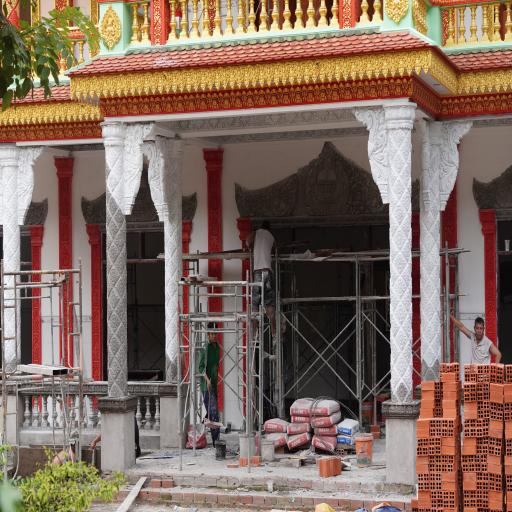hoa: (112, 183, 124, 203), (108, 334, 120, 354), (105, 148, 118, 166), (113, 158, 124, 179), (115, 300, 127, 319), (8, 310, 18, 332), (8, 213, 20, 231), (108, 241, 118, 262), (116, 323, 126, 344), (116, 254, 126, 274), (108, 266, 118, 286), (11, 302, 22, 320), (109, 312, 120, 330), (114, 207, 124, 226), (173, 250, 183, 269), (3, 321, 12, 342), (117, 368, 126, 389), (2, 245, 12, 263), (114, 232, 124, 250), (116, 276, 125, 296), (109, 358, 119, 376), (110, 380, 120, 398), (8, 176, 19, 192), (8, 274, 19, 290), (172, 187, 181, 206), (168, 299, 177, 318), (2, 185, 12, 202), (1, 285, 11, 302), (2, 321, 12, 338), (106, 172, 116, 189), (109, 289, 119, 306), (172, 228, 182, 245), (166, 220, 175, 238), (167, 280, 176, 298), (8, 194, 18, 210), (2, 224, 12, 240), (8, 236, 18, 252), (8, 254, 18, 270), (107, 219, 116, 236), (117, 347, 126, 364), (166, 259, 175, 276), (14, 263, 22, 282), (4, 343, 12, 362), (167, 240, 175, 259), (4, 264, 12, 282), (3, 304, 12, 320), (107, 195, 115, 213), (104, 208, 112, 226), (121, 244, 129, 262), (173, 169, 181, 187), (168, 320, 176, 338), (14, 245, 22, 262), (11, 335, 19, 352), (120, 221, 128, 238), (168, 340, 176, 357), (105, 230, 112, 249), (105, 256, 112, 275), (173, 270, 182, 284), (15, 225, 22, 242), (3, 208, 11, 222), (93, 312, 99, 330), (4, 166, 11, 180), (16, 286, 23, 300), (10, 296, 18, 308), (93, 341, 99, 357), (92, 368, 100, 380), (104, 186, 110, 202), (92, 261, 99, 274), (92, 289, 99, 302), (33, 260, 39, 275), (106, 326, 111, 344), (106, 372, 111, 390), (33, 314, 39, 328), (33, 288, 39, 301), (34, 341, 39, 354)
la: (101, 71, 121, 100), (214, 62, 234, 90), (383, 50, 402, 76), (115, 72, 134, 97), (320, 57, 340, 80), (228, 64, 247, 88), (335, 54, 353, 79), (259, 62, 277, 86), (306, 59, 323, 84), (90, 72, 104, 102), (368, 55, 387, 77), (144, 69, 160, 95), (246, 60, 262, 86), (351, 53, 367, 79), (290, 59, 307, 83), (130, 72, 146, 97), (173, 68, 189, 93), (186, 67, 204, 89), (76, 75, 91, 101), (160, 70, 176, 94), (399, 51, 418, 71), (275, 63, 292, 85), (202, 67, 218, 89), (32, 104, 46, 125), (418, 50, 431, 72), (44, 104, 58, 124), (55, 103, 69, 123), (79, 102, 92, 121), (10, 106, 22, 126), (0, 107, 11, 127), (68, 102, 79, 122), (22, 106, 34, 124), (68, 74, 77, 98), (208, 170, 219, 188), (209, 221, 219, 237), (60, 202, 69, 218), (60, 229, 69, 245), (209, 197, 219, 210), (61, 176, 69, 192), (61, 254, 69, 268), (98, 400, 105, 410), (86, 384, 92, 394), (106, 400, 112, 410), (120, 399, 126, 409), (93, 385, 100, 393), (100, 385, 107, 393), (113, 402, 120, 410), (164, 386, 171, 393), (7, 386, 13, 394), (36, 385, 42, 393), (56, 386, 62, 394), (153, 384, 159, 392), (158, 386, 164, 394), (13, 385, 18, 394), (68, 386, 74, 393), (140, 386, 146, 393), (147, 386, 153, 393), (19, 384, 23, 394), (24, 385, 29, 393), (30, 385, 35, 393), (128, 386, 133, 394), (172, 386, 177, 394), (43, 384, 47, 393), (81, 386, 87, 392), (134, 386, 140, 392)
ran: (352, 104, 389, 210), (440, 120, 474, 212), (122, 123, 154, 216), (18, 145, 48, 227), (141, 139, 164, 223)
than: (104, 14, 117, 44)
